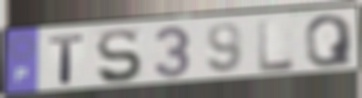3: (151, 24, 192, 82)
9: (204, 22, 244, 75)
L: (257, 17, 298, 74)
Q: (303, 13, 355, 70)
S: (95, 27, 145, 86)
T: (47, 33, 87, 86)
